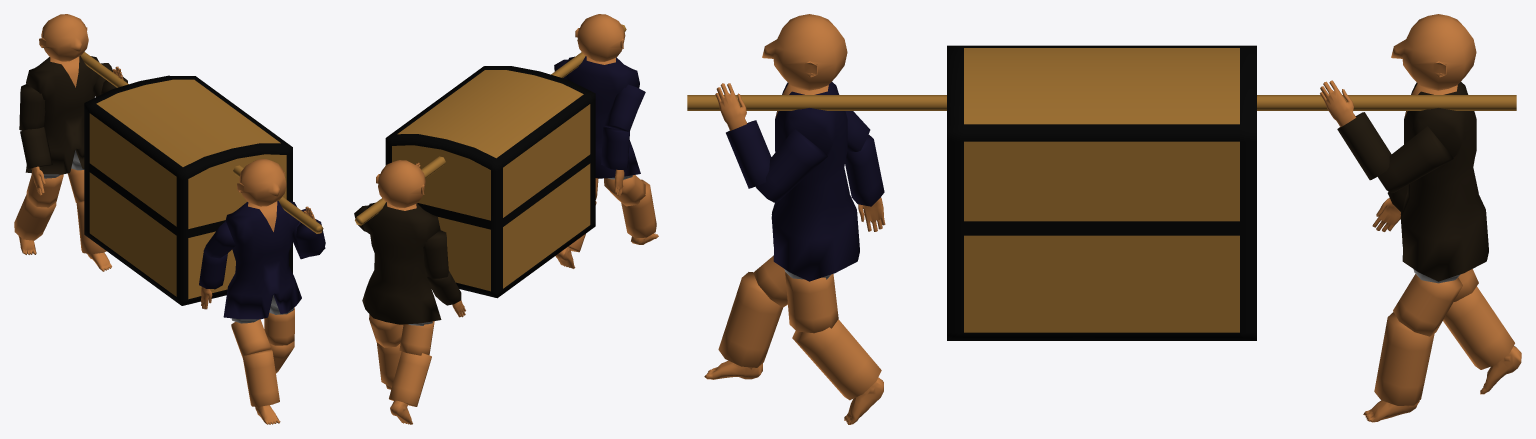
Rendered from Obstacles_High_000.obj.
3 renders of one model, left to right at view 1: azimuth 30°, elevation 25°; view 2: azimuth 150°, elevation 25°; view 3: azimuth 270°, elevation 25°, orthographic. The views are drawn at different scales.
Visible parts, largest first — view 1: pCylinder1 pCube1, pasted__Karateka_Hip group pasted__Karateka_Body pasted__Karatek, Karateka_Hip Karateka_Body, pasted__Karateka_Hip group pasted__Karateka_Body, Karateka_Hip, Karateka_Hip Karateka_Body Karateka_Head, Karateka_Hip Karateka_RightUpLeg Karateka_RightLeg, pasted__Karateka_Hip group, pasted__Karateka_Hip group pasted__Karateka_RightUpLeg pasted__K, pCylinder1, Karateka_Hip Karateka_Body Karateka_RightArm Karateka_RightForeA, Karateka_Hip Karateka_RightUpLeg (+8 smaller); view 2: pCylinder1 pCube1, pasted__Karateka_Hip group pasted__Karateka_Body, pasted__Karateka_Hip group pasted__Karateka_Body pasted__Karatek, pasted__Karateka_Hip group, Karateka_Hip Karateka_Body, pasted__Karateka_Hip group pasted__Karateka_RightUpLeg pasted__K, Karateka_Hip Karateka_Body Karateka_Head, Karateka_Hip Karateka_Body Karateka_RightArm Karateka_RightForeA, Karateka_Hip Karateka_RightUpLeg Karateka_RightLeg, Karateka_Hip Karateka_Body Karateka_RightArm, pCylinder1, pasted__Karateka_Hip group pasted__Karateka_RightUpLeg (+4 smaller); view 3: pCylinder1 pCube1, pasted__Karateka_Hip group pasted__Karateka_Body pasted__Karatek, pCylinder1, pasted__Karateka_Hip group, pasted__Karateka_Hip group pasted__Karateka_Body, Karateka_Hip, Karateka_Hip Karateka_Body, Karateka_Hip Karateka_Body Karateka_Head, pasted__Karateka_Hip group pasted__Karateka_LeftUpLeg pasted__Ka, pasted__Karateka_Hip group pasted__Karateka_RightUpLeg pasted__K, Karateka_Hip Karateka_RightUpLeg Karateka_RightLeg, Karateka_Hip Karateka_LeftUpLeg Karateka_LeftLeg (+7 smaller).
Part boxes in pixels (x1=…): pCylinder1 pCube1: x1=84, y1=75, x2=292, y2=305; pasted__Karateka_Hip group pasted__Karateka_Body pasted__Karatek: x1=19, y1=14, x2=127, y2=195; Karateka_Hip Karateka_Body: x1=225, y1=201, x2=298, y2=280; pasted__Karateka_Hip group pasted__Karateka_Body: x1=26, y1=56, x2=99, y2=135; Karateka_Hip: x1=223, y1=266, x2=301, y2=323; Karateka_Hip Karateka_Body Karateka_Head: x1=237, y1=159, x2=286, y2=206; Karateka_Hip Karateka_RightUpLeg Karateka_RightLeg: x1=242, y1=349, x2=279, y2=406; pasted__Karateka_Hip group: x1=25, y1=130, x2=84, y2=178; pasted__Karateka_Hip group pasted__Karateka_RightUpLeg pasted__K: x1=14, y1=193, x2=56, y2=254; pCylinder1: x1=81, y1=52, x2=323, y2=233; Karateka_Hip Karateka_Body Karateka_RightArm Karateka_RightForeA: x1=199, y1=252, x2=227, y2=309; Karateka_Hip Karateka_RightUpLeg: x1=231, y1=319, x2=270, y2=358; pCylinder1 pCube1: x1=385, y1=66, x2=595, y2=298; pasted__Karateka_Hip group pasted__Karateka_Body: x1=363, y1=202, x2=440, y2=284; pasted__Karateka_Hip group pasted__Karateka_Body pasted__Karatek: x1=354, y1=160, x2=465, y2=317; pasted__Karateka_Hip group: x1=362, y1=270, x2=441, y2=325; Karateka_Hip Karateka_Body: x1=563, y1=56, x2=639, y2=137; pasted__Karateka_Hip group pasted__Karateka_RightUpLeg pasted__K: x1=389, y1=351, x2=431, y2=424; Karateka_Hip Karateka_Body Karateka_Head: x1=575, y1=14, x2=625, y2=61; Karateka_Hip Karateka_Body Karateka_RightArm Karateka_RightForeA: x1=601, y1=127, x2=629, y2=195; Karateka_Hip Karateka_RightUpLeg Karateka_RightLeg: x1=621, y1=179, x2=656, y2=237; Karateka_Hip Karateka_Body Karateka_RightArm: x1=603, y1=84, x2=645, y2=131; pCylinder1: x1=355, y1=24, x2=626, y2=225; pasted__Karateka_Hip group pasted__Karateka_RightUpLeg: x1=399, y1=321, x2=434, y2=355; pCylinder1 pCube1: x1=947, y1=45, x2=1256, y2=340; pasted__Karateka_Hip group pasted__Karateka_Body pasted__Karatek: x1=1320, y1=14, x2=1476, y2=231; pCylinder1: x1=687, y1=95, x2=1516, y2=110; pasted__Karateka_Hip group: x1=1400, y1=193, x2=1488, y2=283; pasted__Karateka_Hip group pasted__Karateka_Body: x1=1404, y1=82, x2=1478, y2=213; Karateka_Hip: x1=771, y1=194, x2=859, y2=281; Karateka_Hip Karateka_Body: x1=775, y1=82, x2=849, y2=213; Karateka_Hip Karateka_Body Karateka_Head: x1=762, y1=14, x2=847, y2=90; pasted__Karateka_Hip group pasted__Karateka_LeftUpLeg pasted__Ka: x1=1363, y1=312, x2=1434, y2=422; pasted__Karateka_Hip group pasted__Karateka_RightUpLeg pasted__K: x1=1443, y1=286, x2=1521, y2=394; Karateka_Hip Karateka_RightUpLeg Karateka_RightLeg: x1=718, y1=272, x2=783, y2=367; Karateka_Hip Karateka_LeftUpLeg Karateka_LeftLeg: x1=792, y1=319, x2=881, y2=400.
Size of the model in its own units: 86.27 by 167 by 323.
